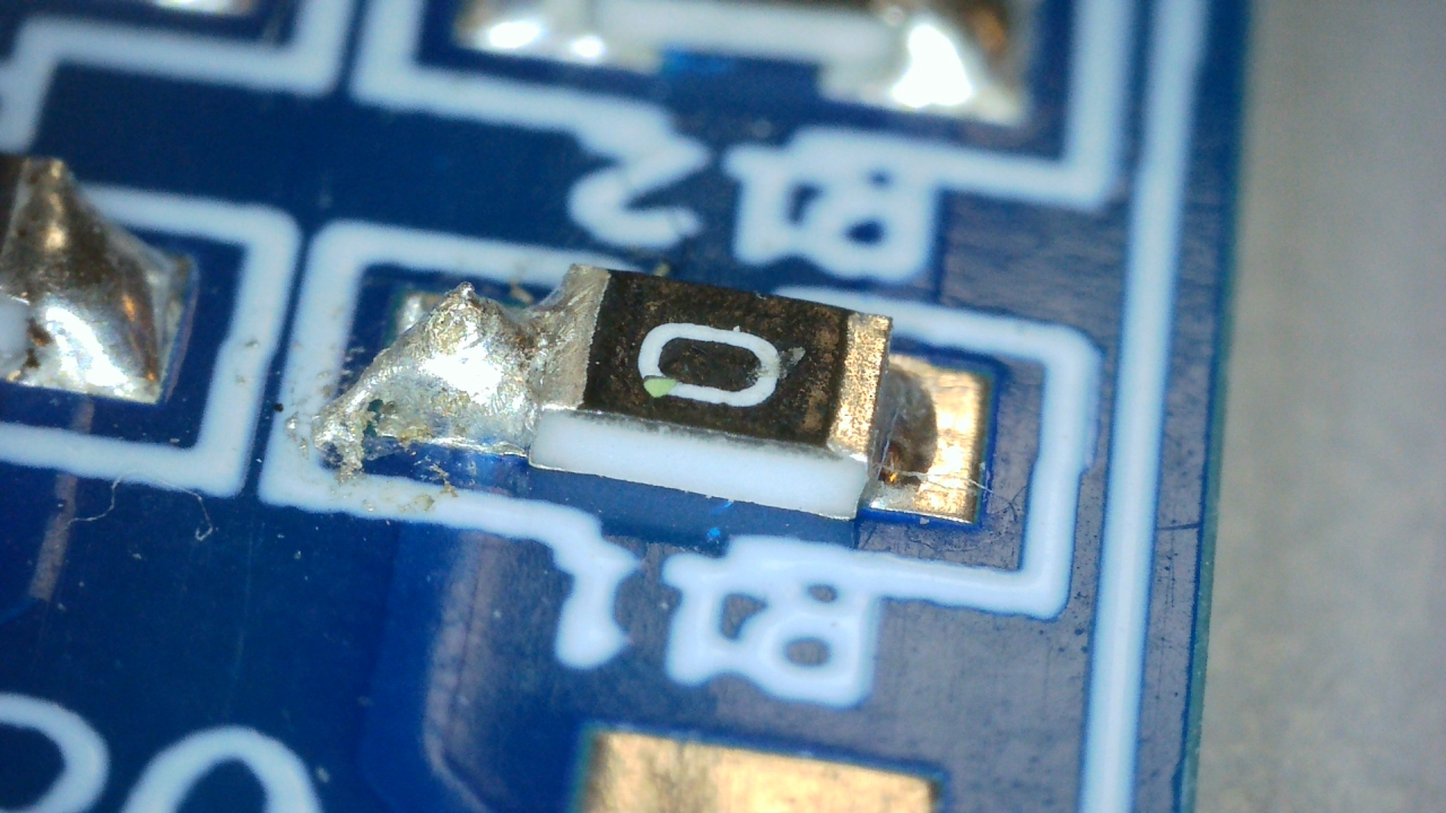NG: (318, 283, 534, 479), (828, 312, 936, 488)
